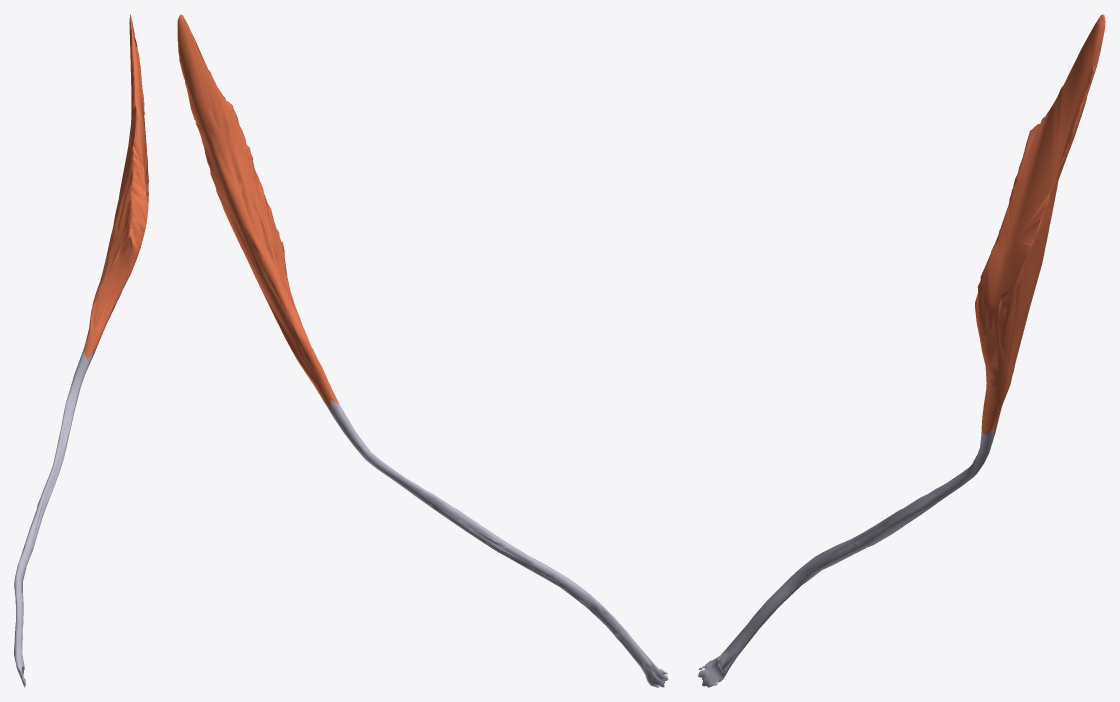
File: Extensor_pollicis_longus.r_Generated_Mesh_From_X3D.963.glb
3 views of the same model, side by side, from view 1: azimuth 30°, elevation 25°; view 2: azimuth 150°, elevation 25°; view 3: azimuth 270°, elevation 25° (orthographic). The views are drawn at different scales.
Parts seen in each view (by area): view 1: Extensor_pollicis_longus.r_Generated_Mesh_From_X3D.963; view 2: Extensor_pollicis_longus.r_Generated_Mesh_From_X3D.963; view 3: Extensor_pollicis_longus.r_Generated_Mesh_From_X3D.963.
Part boxes in pixels (left/top/right/bottom): Extensor_pollicis_longus.r_Generated_Mesh_From_X3D.963: left=14, top=14, right=148, bottom=687; Extensor_pollicis_longus.r_Generated_Mesh_From_X3D.963: left=177, top=14, right=668, bottom=687; Extensor_pollicis_longus.r_Generated_Mesh_From_X3D.963: left=697, top=14, right=1105, bottom=687.
Bounding box in the file's own units: 0.0983 × 0.2091 × 0.0906.
